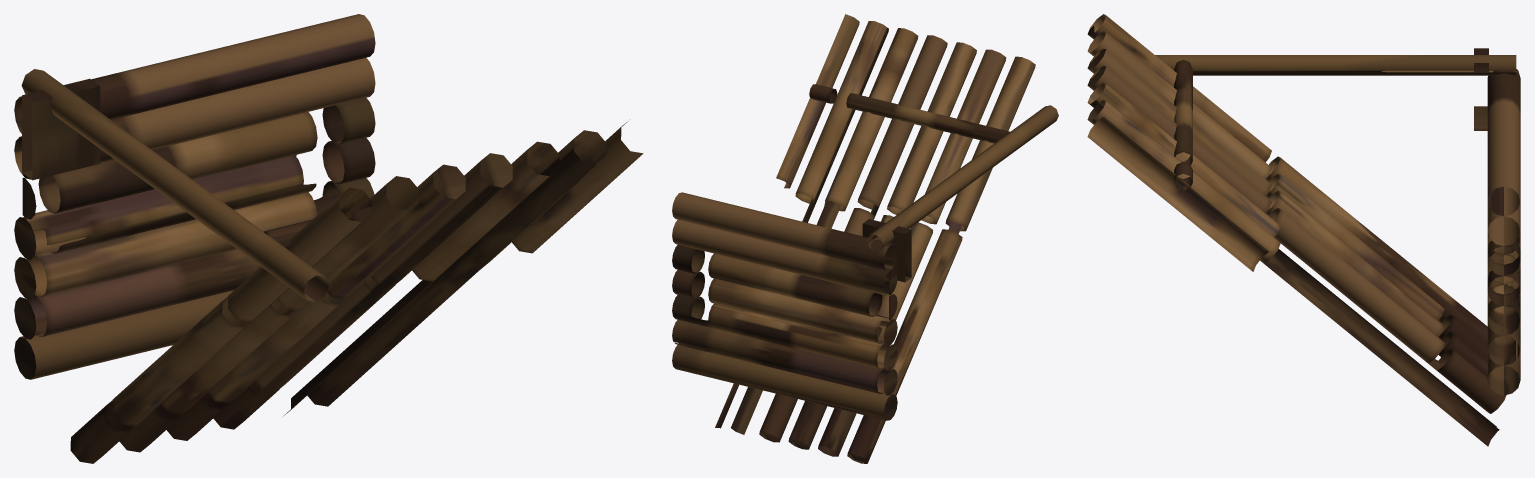
The model's file is section-2.obj.
3 views of the same model, side by side, from view 1: azimuth 30°, elevation 25°; view 2: azimuth 150°, elevation 25°; view 3: azimuth 270°, elevation 25° (orthographic). The views are drawn at different scales.
Size of the model in its own units: 1.01 by 1.27 by 1.45.
